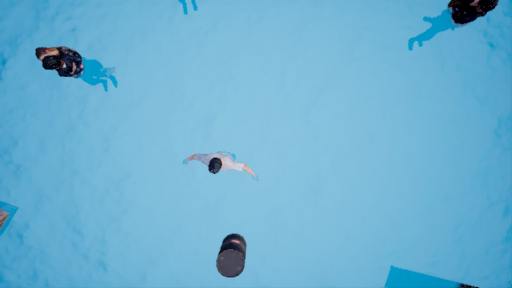person: (30, 44, 122, 109), (187, 144, 258, 189)
